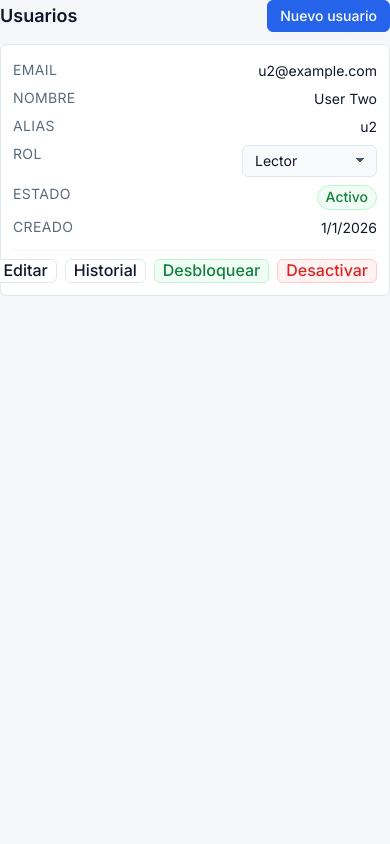
Test: UsersPage status toggle › shows a confirmation dialog naming the active race when the pre-check finds one
Click the button "Desactivar": (327, 271) top-left (277, 259), bottom-right (377, 283)
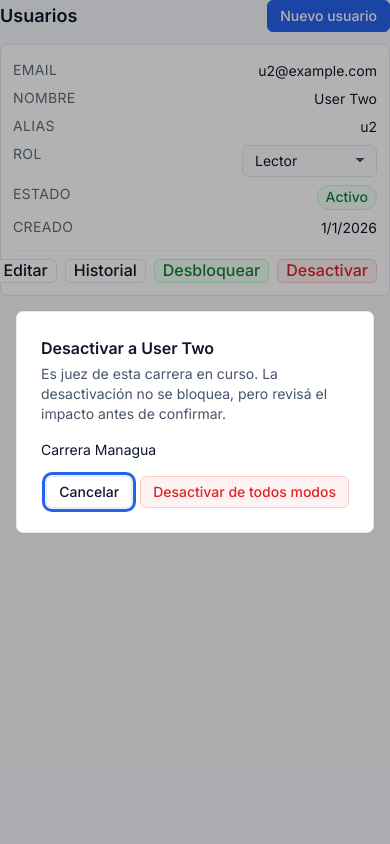
Result: the list item "Carrera Managua" is shown at top-left (41, 441), bottom-right (156, 458)
